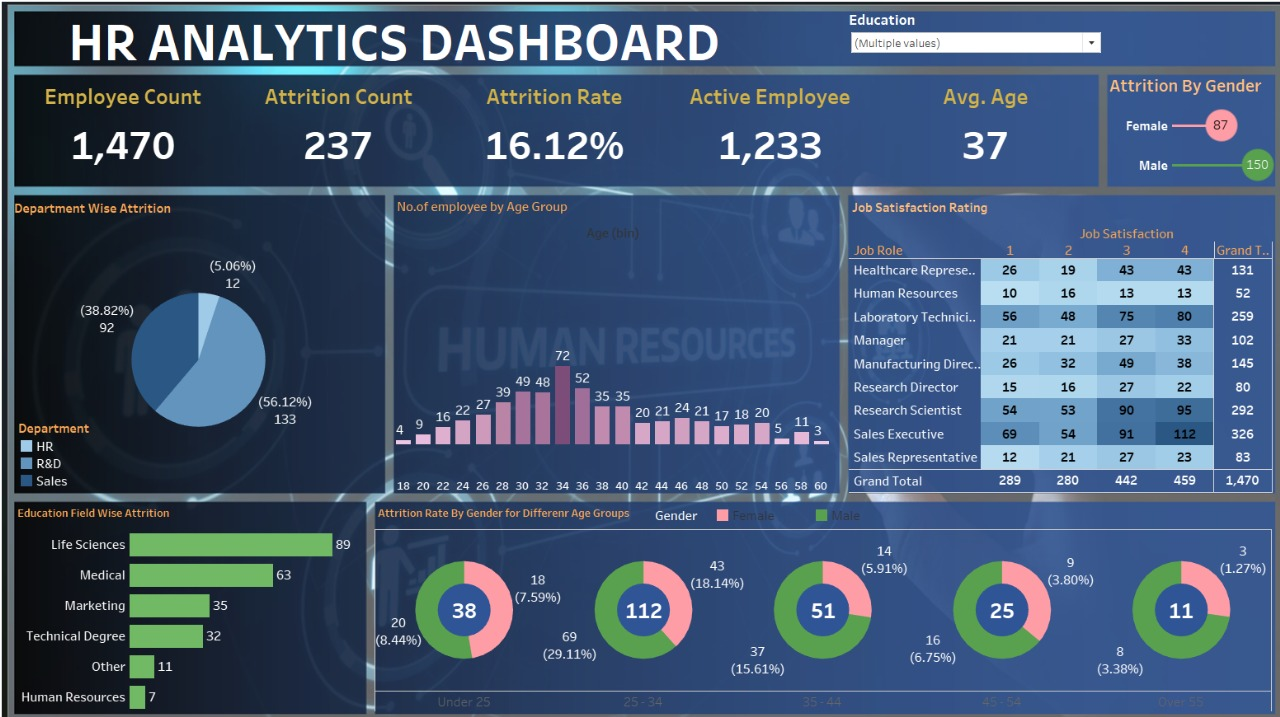

This screenshot's page, from the dashboard's own definition file:
{"tool":"tableau","page":{"name":"HR ANALYTICS DASHBOARD","canvas":[1580,900],"ordinal":0},"visuals":[{"type":"image","param":"Image/Screenshot 2025-09-20 203338.png","box":[8,8,1564,884]},{"type":"filter","title":"No.of employee by Age Group","param":"[federated.0z1ynh009laavl14he5gn1wj1g79].[none:Education:nk]","box":[1039,22,309,60]},{"type":"text","box":[26,26,924,65]},{"type":"worksheet","title":"Attrition By Gender","mark":"Automatic","rows":["Gender"],"cols":["Calculation_2138083978579132416","Calculation_2138083978579132416"],"box":[1351,95,209,139]},{"type":"worksheet","title":"KPI","mark":"Automatic","box":[28,103,1308,122]},{"type":"worksheet","title":"No.of employee by Age Group","mark":"Automatic","rows":["Employee Count"],"cols":["Age (bin)"],"box":[487,246,531,363]},{"type":"worksheet","title":"Job Satisfaction Rating","mark":"Square","rows":["Job Role"],"cols":["Job Satisfaction"],"box":[1039,247,515,361]},{"type":"worksheet","title":"Department Wise Attrition","mark":"Pie","box":[23,248,455,361]},{"type":"legend","title":"Department Wise Attrition","param":"[federated.0z1ynh009laavl14he5gn1wj1g79].[none:Department:nk]","box":[32,519,140,85]},{"type":"worksheet","title":"Education Field Wise Attrition","mark":"Automatic","rows":["Education Field"],"cols":["Calculation_2138083978579132416"],"box":[27,619,425,255]},{"type":"worksheet","title":"Attrition Rate By Gender for Differenr Age Groups","mark":"Pie","rows":["Calculation_2138083978859069445","Calculation_2138083978859069445"],"cols":["CF_age band"],"box":[464,619,1088,255]},{"type":"legend","title":"Attrition Rate By Gender for Differenr Age Groups","param":"[federated.0z1ynh009laavl14he5gn1wj1g79].[none:Gender:nk]","box":[804,625,602,31]}]}

Visuals, with their boxes in screenshot pixels (x1, y1, x2, y2), scaled from the page's 1580x900 canvas onto the 1280x717 screenshot:
image: region(6, 6, 1274, 711)
"No.of employee by Age Group" filter: region(842, 18, 1092, 65)
text: region(21, 21, 770, 72)
"Attrition By Gender" worksheet: region(1094, 76, 1264, 186)
"KPI" worksheet: region(23, 82, 1082, 179)
"No.of employee by Age Group" worksheet: region(395, 196, 825, 485)
"Job Satisfaction Rating" worksheet (Square marks): region(842, 197, 1259, 484)
"Department Wise Attrition" worksheet (Pie marks): region(19, 198, 387, 485)
"Department Wise Attrition" legend: region(26, 413, 139, 481)
"Education Field Wise Attrition" worksheet: region(22, 493, 366, 696)
"Attrition Rate By Gender for Differenr Age Groups" worksheet (Pie marks): region(376, 493, 1257, 696)
"Attrition Rate By Gender for Differenr Age Groups" legend: region(651, 498, 1139, 523)
